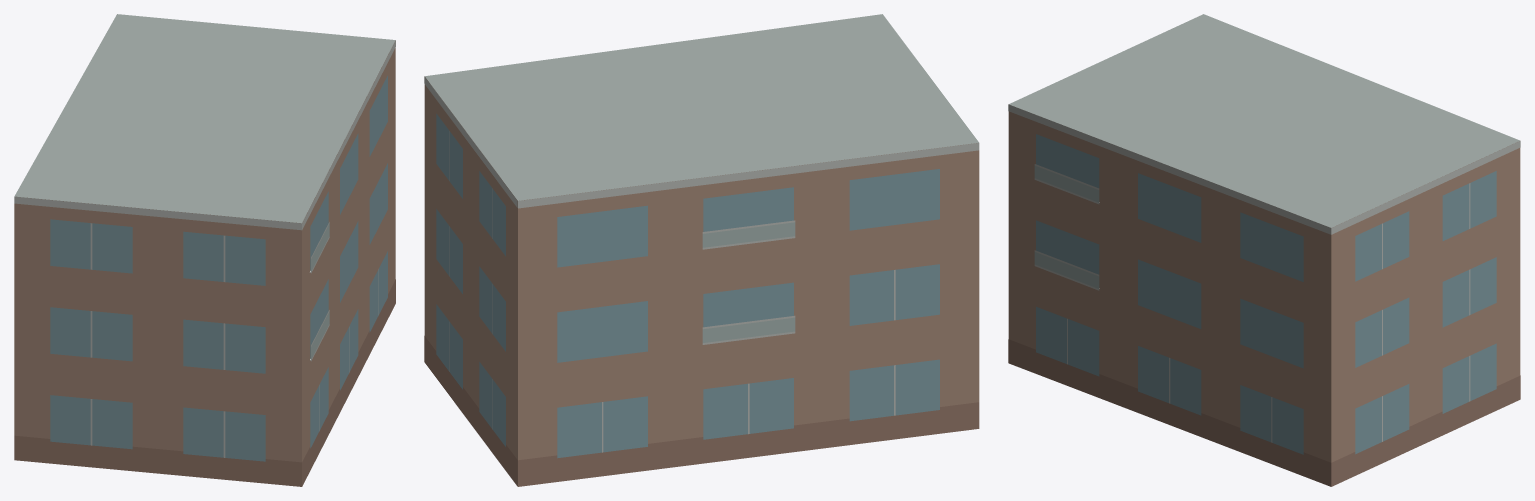
Rendered from survey-upis-32697741.glb.
3 renders of one model, left to right at view 1: azimuth 30°, elevation 25°; view 2: azimuth 150°, elevation 25°; view 3: azimuth 270°, elevation 25°, orthographic. The views are drawn at different scales.
Parts seen in each view (by area): view 1: survey-upis-32697741.tmp; view 2: survey-upis-32697741.tmp; view 3: survey-upis-32697741.tmp.
Boxes of the visible parts, x1,y1,x2,y2 form: survey-upis-32697741.tmp: (14,14,395,486); survey-upis-32697741.tmp: (424,14,979,486); survey-upis-32697741.tmp: (1008,14,1520,486).
Bounding box in the file's own units: 16.22 × 9.15 × 16.4.
